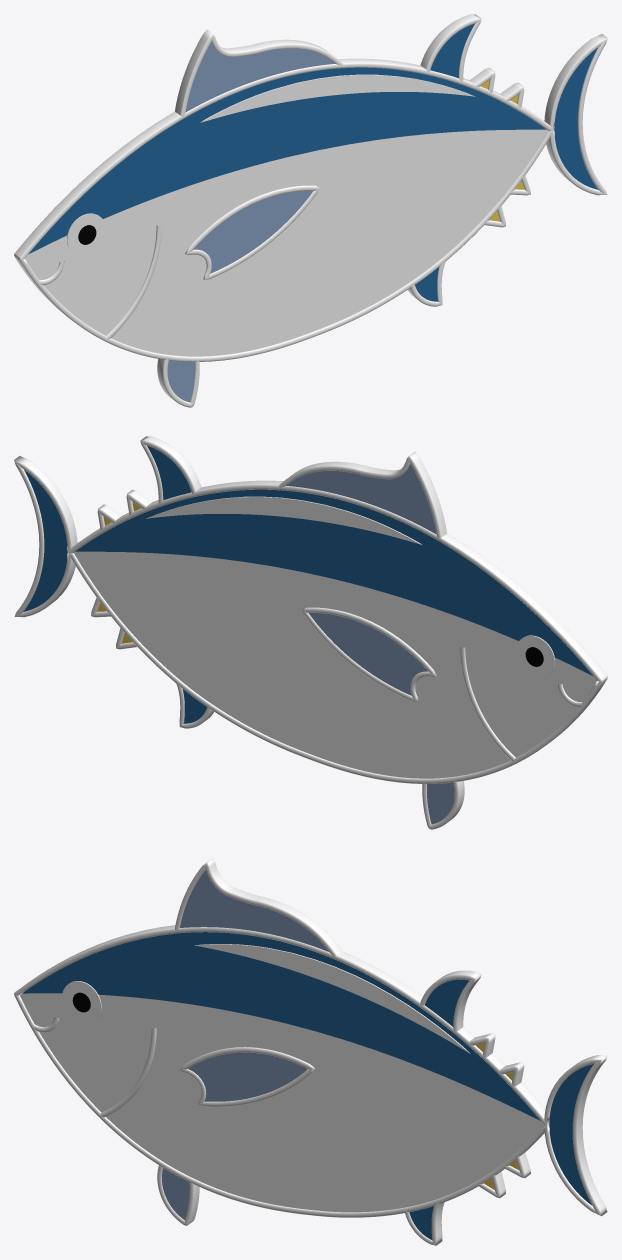
The model's file is tuna.glb.
The picture shows the model from 3 angles, top to bottom: view 1: azimuth 30°, elevation 25°; view 2: azimuth 150°, elevation 25°; view 3: azimuth 330°, elevation 25°; orthographic projection.
Parts seen in each view (by area): view 1: Curve.001, Curve, Curve.005, Curve.007, Curve.013, Curve.006, Curve.004, Curve.011, Curve.003, Curve.009; view 2: Curve.001, Curve, Curve.005, Curve.007, Curve.013, Curve.006, Curve.004, Curve.011, Curve.003, Curve.009; view 3: Curve.001, Curve, Curve.005, Curve.007, Curve.013, Curve.006, Curve.004, Curve.011, Curve.003, Curve.009.
Boxes of the visible parts, bbox=[...] form: Curve.001: bbox=[25, 129, 547, 356]; Curve: bbox=[29, 48, 598, 253]; Curve.005: bbox=[167, 42, 334, 402]; Curve.007: bbox=[14, 58, 552, 361]; Curve.013: bbox=[39, 34, 607, 285]; Curve.006: bbox=[175, 14, 524, 116]; Curve.004: bbox=[200, 74, 475, 122]; Curve.011: bbox=[106, 222, 486, 407]; Curve.003: bbox=[415, 24, 474, 301]; Curve.009: bbox=[67, 213, 106, 256]; Curve.001: bbox=[74, 551, 596, 778]; Curve: bbox=[23, 470, 592, 675]; Curve.005: bbox=[287, 464, 454, 824]; Curve.007: bbox=[69, 480, 607, 783]; Curve.013: bbox=[14, 456, 582, 707]; Curve.006: bbox=[97, 436, 446, 538]; Curve.004: bbox=[146, 496, 421, 544]; Curve.011: bbox=[135, 644, 515, 829]; Curve.003: bbox=[147, 446, 206, 723]; Curve.009: bbox=[515, 635, 554, 678]; Curve.001: bbox=[20, 993, 542, 1212]; Curve: bbox=[22, 932, 593, 1205]; Curve.005: bbox=[162, 870, 329, 1219]; Curve.007: bbox=[14, 925, 545, 1217]; Curve.013: bbox=[32, 1016, 607, 1216]; Curve.006: bbox=[175, 858, 524, 1087]; Curve.004: bbox=[195, 944, 470, 1053]; Curve.011: bbox=[99, 1027, 480, 1245]; Curve.003: bbox=[409, 979, 469, 1240]; Curve.009: bbox=[62, 981, 101, 1024].
Size of the model in its own units: 1.64 by 0.9841 by 0.0322.
